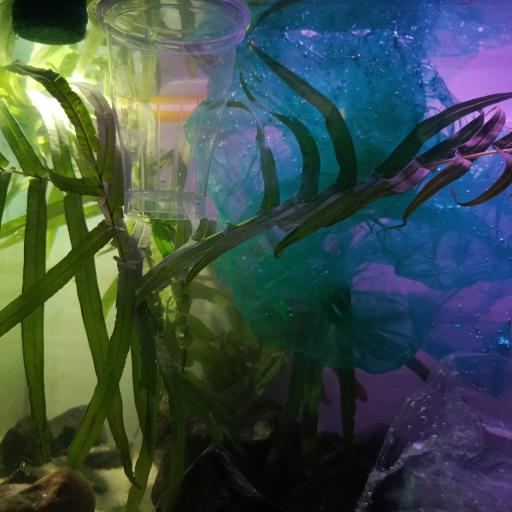bottle_cap: (11, 0, 89, 46)
plastic_bag: (185, 0, 512, 396), (353, 345, 512, 512)
plastic_cup: (94, 0, 252, 220)
plastic_straw: (150, 94, 202, 126)
